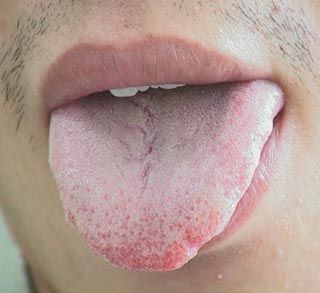baitaishe: (49, 80, 285, 271)
